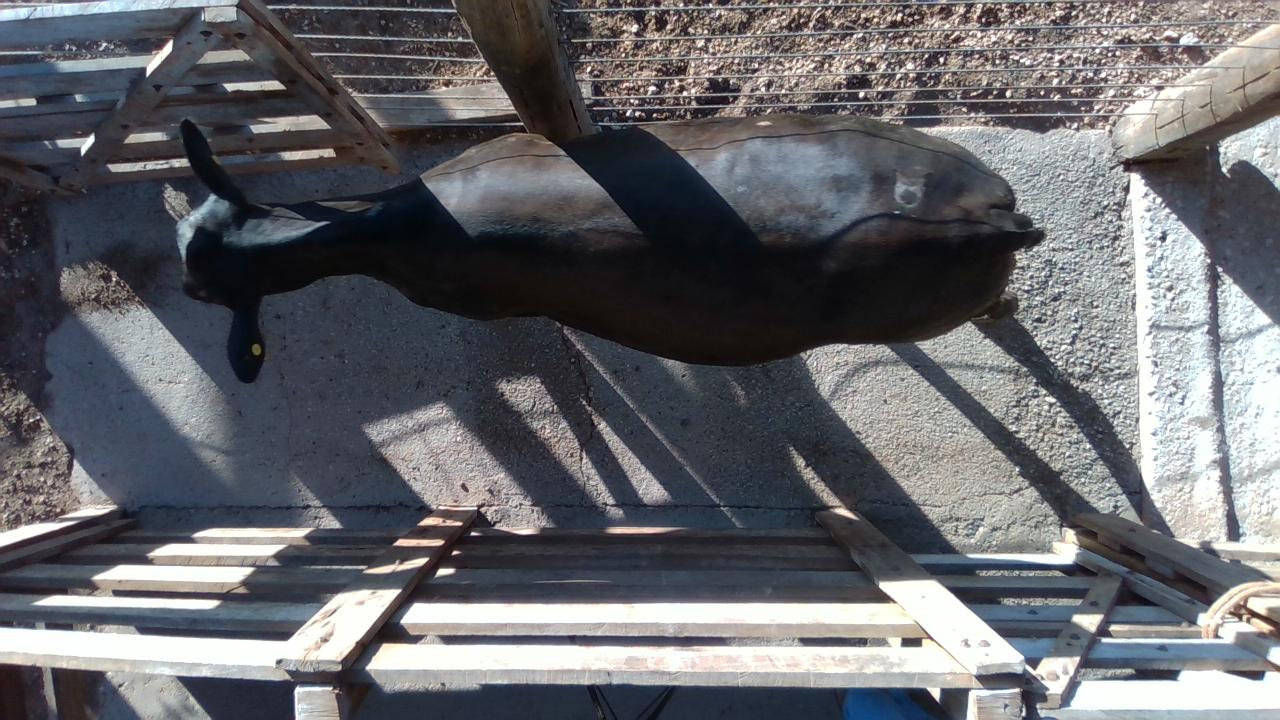cattle: (172, 109, 1046, 383)
